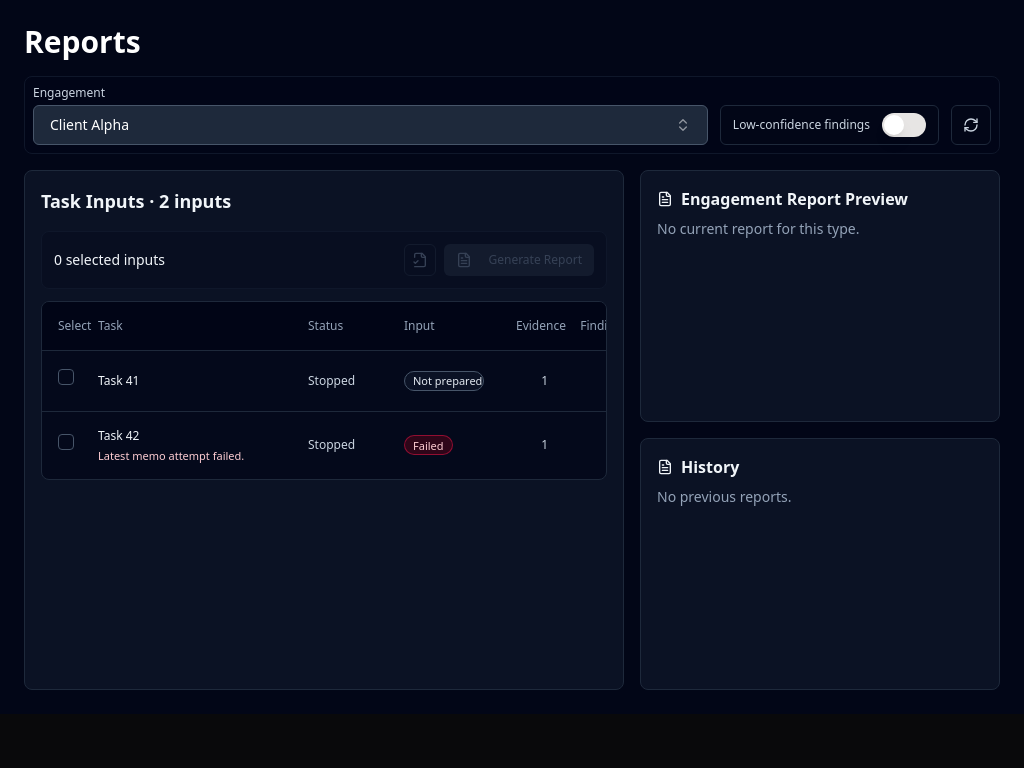
Test case: <EngagementReportingWorkspace /> › shows permission failures from selected input preparation without report invalidation
expect the text "Task 41" is shown: met, box [98,372,140,388]
Click the checkbox named "Select Task 41" at (66,377), box [58,369,74,385]
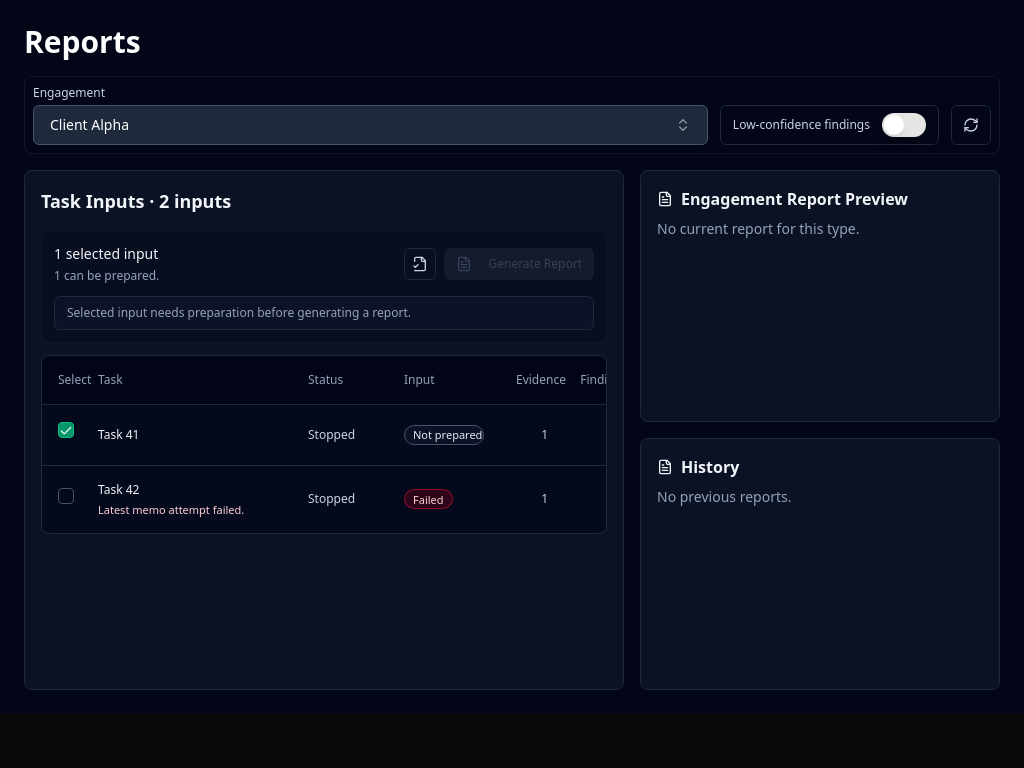
Click the checkbox named "Select Task 42" at (66,496), box [58,488,74,504]
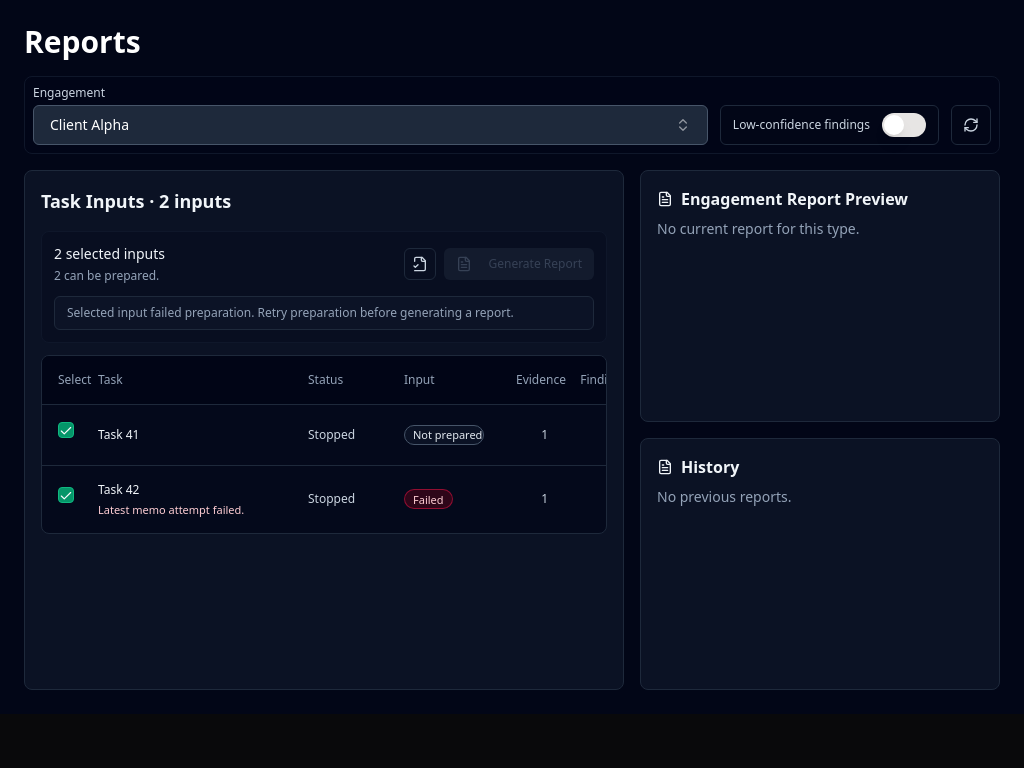
Click the button named "Prepare Selected" at (420,264), box [404,248,436,280]
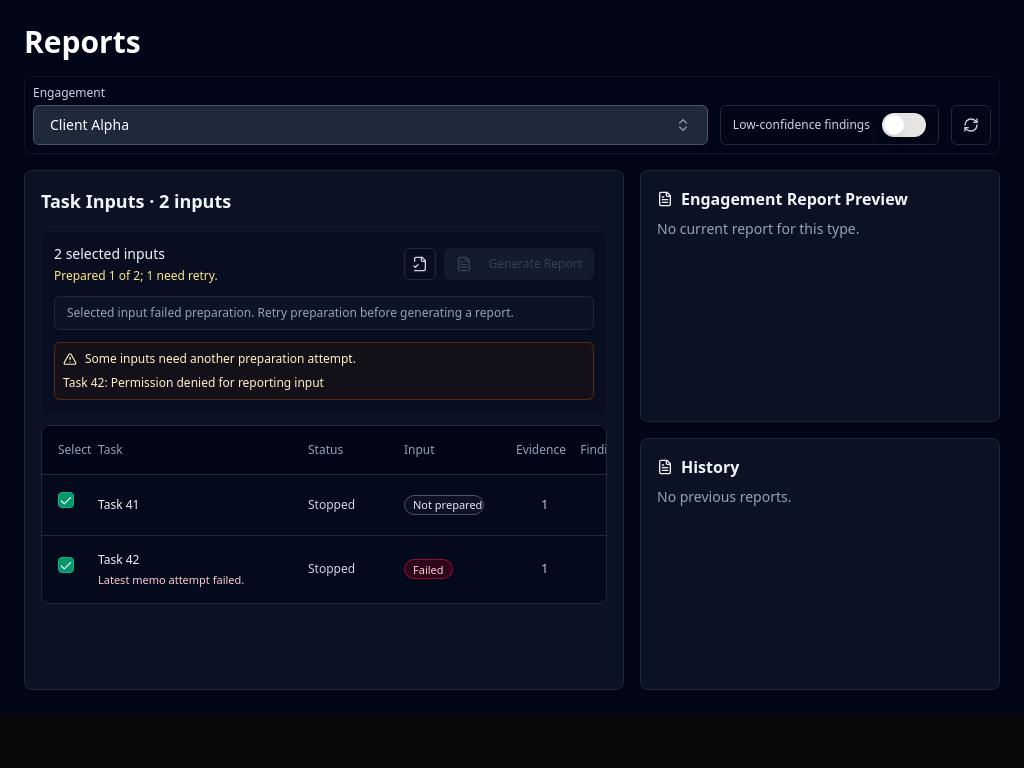
expect the text "Some inputs need another preparation attempt." is shown: met, box [63,350,356,367]
